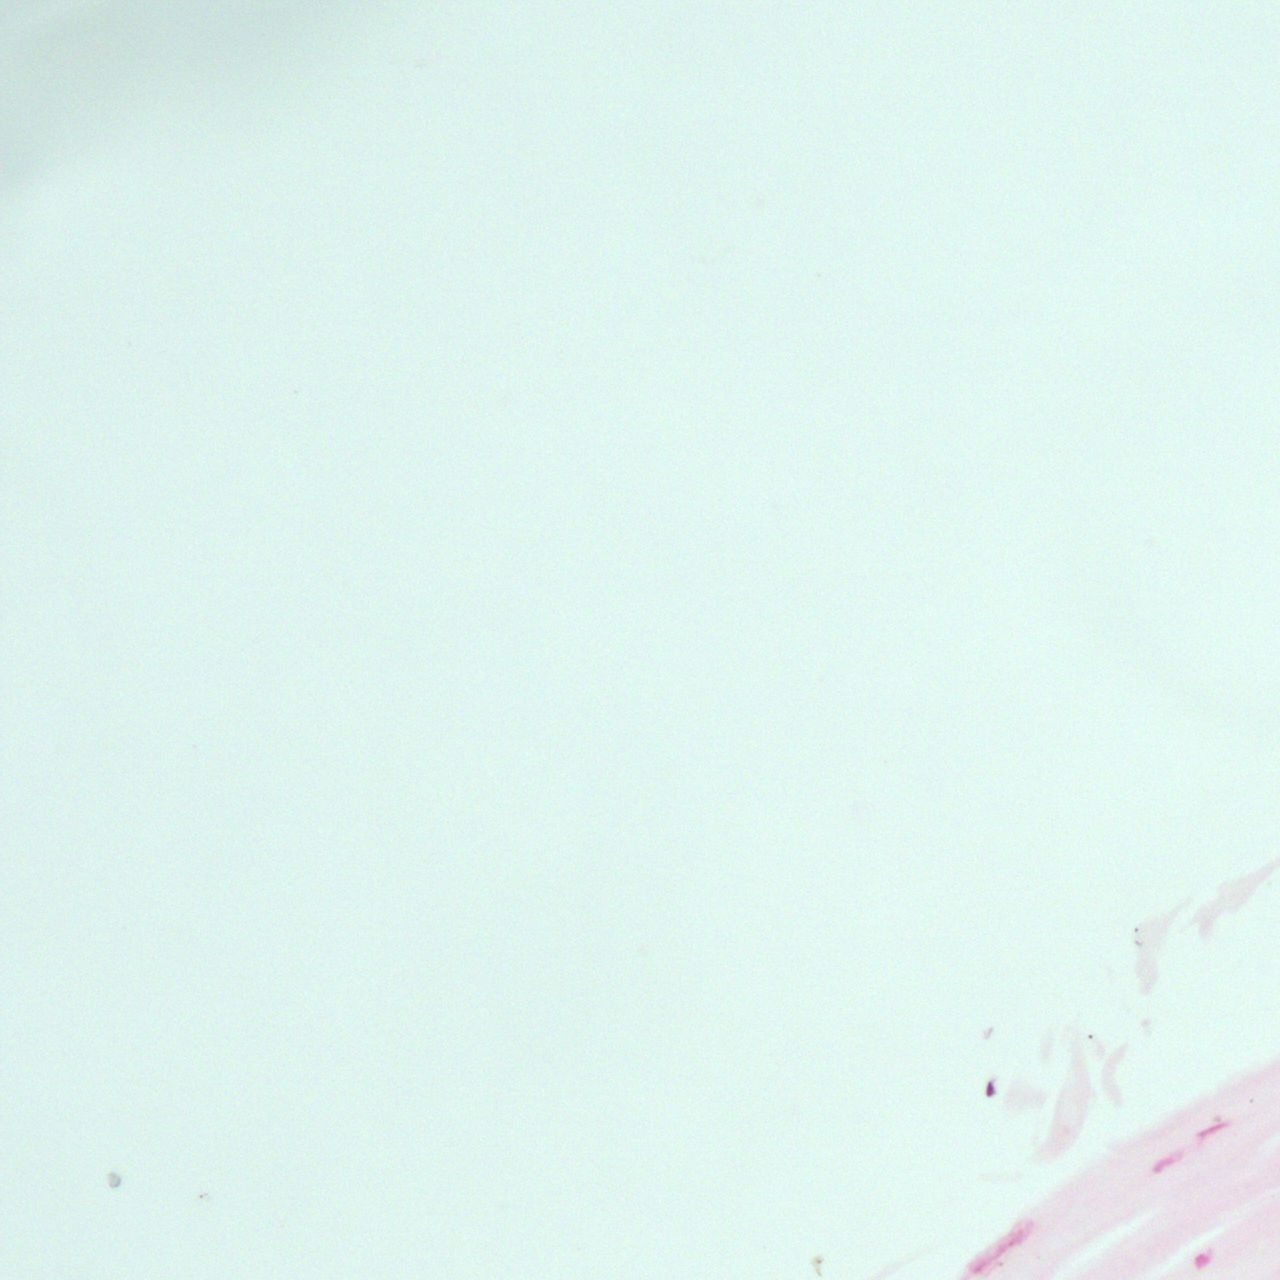dust: (981, 1078, 998, 1097), (811, 1253, 825, 1274), (105, 1172, 122, 1190), (1083, 1032, 1096, 1046), (1132, 940, 1144, 945), (1132, 928, 1141, 933)
nucleus-AC: (1149, 1148, 1185, 1176), (1196, 1121, 1228, 1141), (1194, 1253, 1210, 1269)
